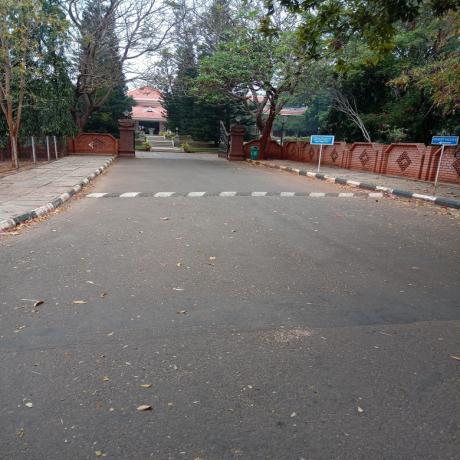Speed Bump: (76, 190, 391, 199)
